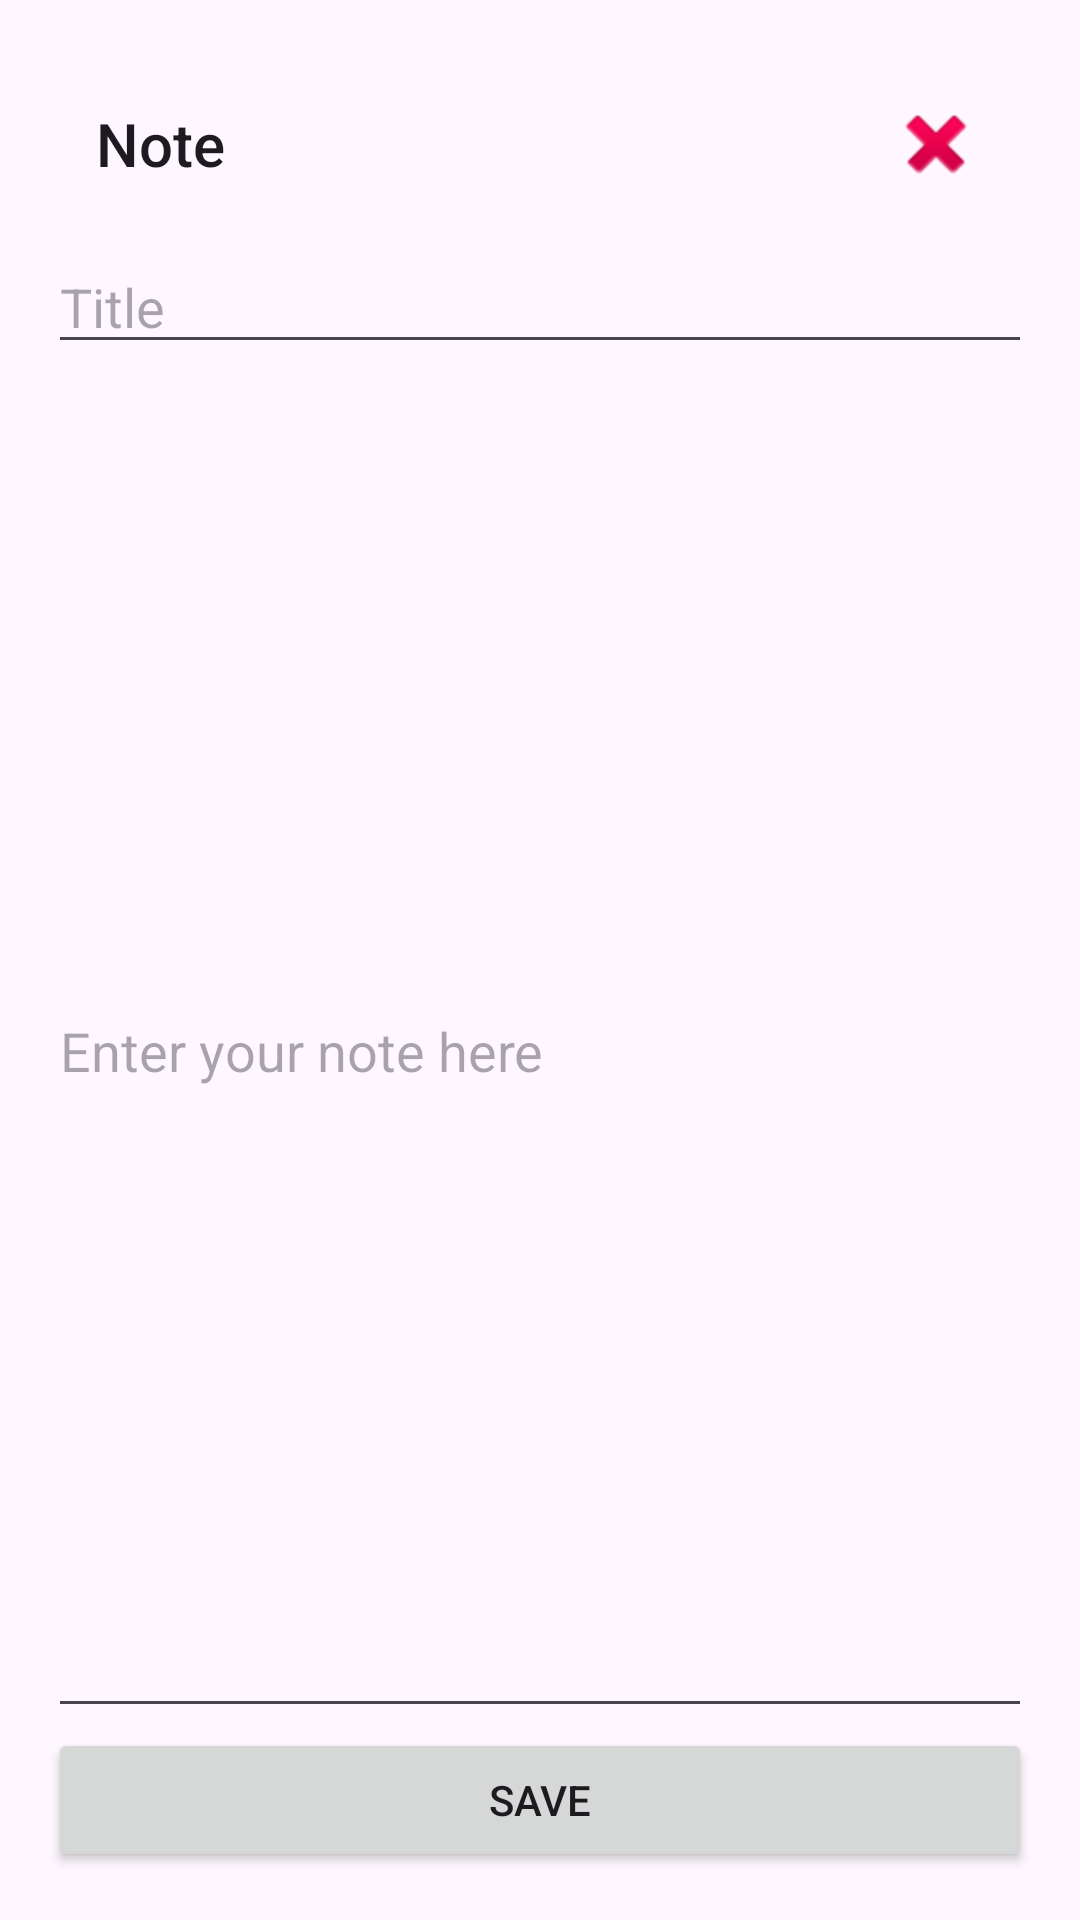

Screen size 1080x1920. Icon name, then its box in pixels as (left=x1, top=y1, right=x2, bottom=y2):
delete: (left=905, top=115, right=967, bottom=174)
